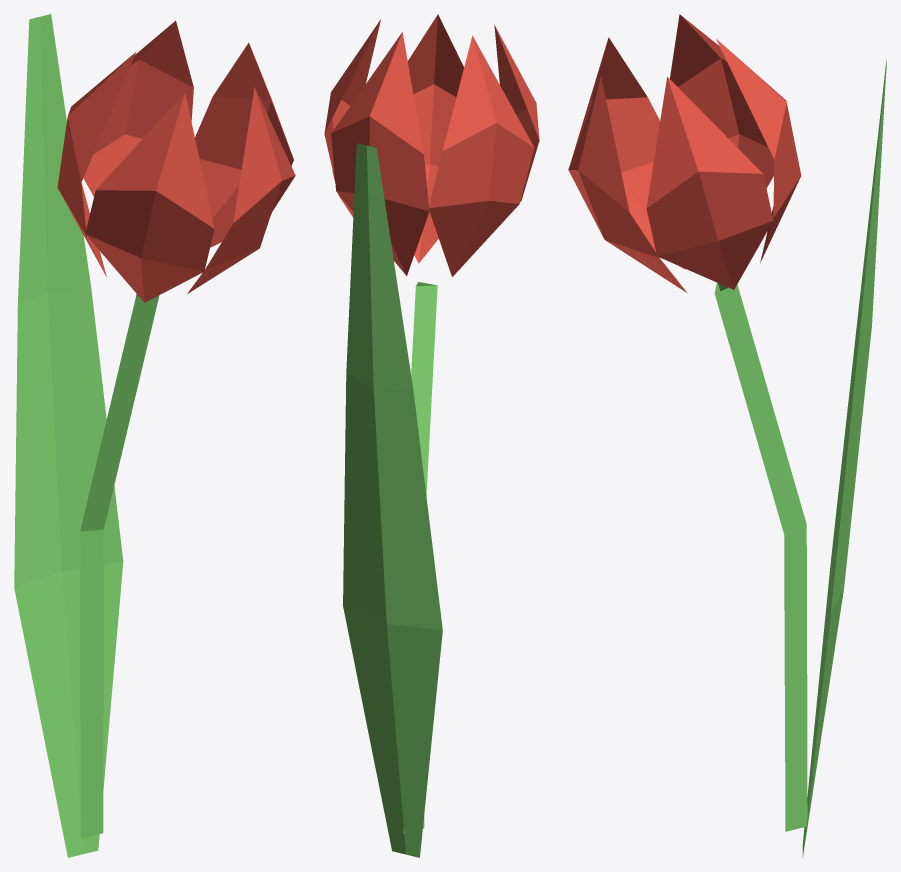
The model's file is tulip.fbx.
3 views of the same model, side by side, from view 1: azimuth 30°, elevation 25°; view 2: azimuth 150°, elevation 25°; view 3: azimuth 270°, elevation 25° (orthographic). The views are drawn at different scales.
Parts seen in each view (by area): view 1: flower, Plane; view 2: Plane, flower; view 3: flower, Plane.
Part boxes in pixels (<box>): flower: <box>57,20,295,838</box>; Plane: <box>14,14,123,857</box>; Plane: <box>343,143,442,857</box>; flower: <box>324,14,539,833</box>; flower: <box>568,14,807,831</box>; Plane: <box>802,59,886,857</box>.
Size of the model in its own units: 11.21 by 44.33 by 15.31.
